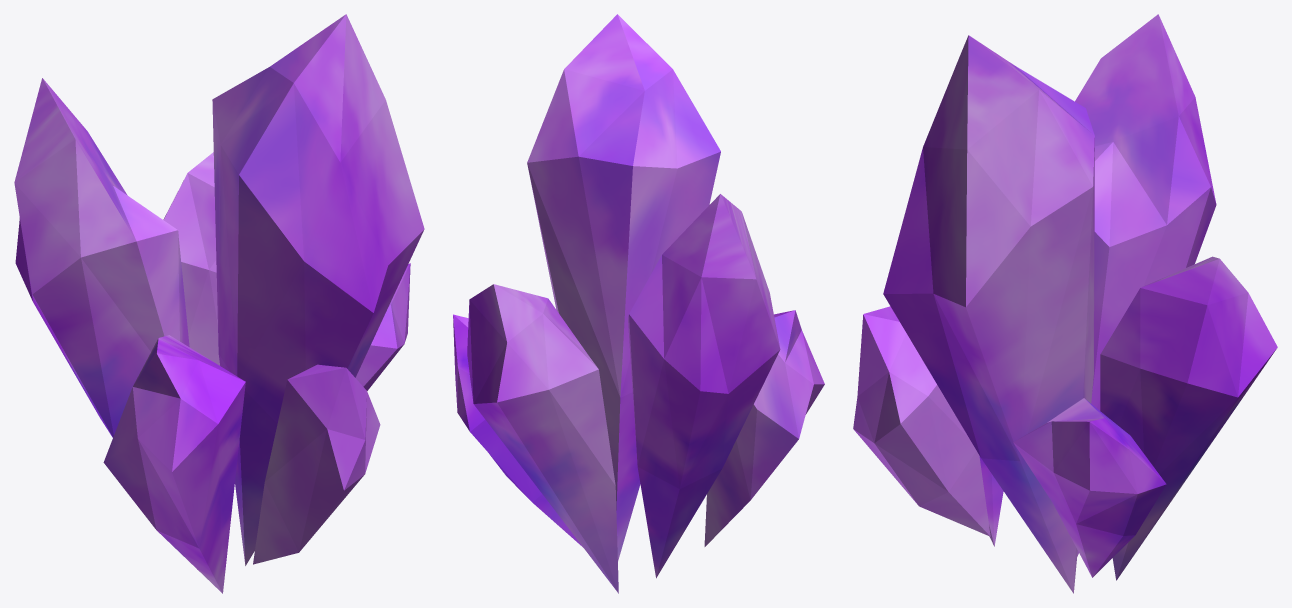
Rendered from rockface_natural_crystallarge01.FBX.
3 views of the same model, side by side, from view 1: azimuth 30°, elevation 25°; view 2: azimuth 150°, elevation 25°; view 3: azimuth 270°, elevation 25° (orthographic). The views are drawn at different scales.
Parts seen in each view (by area): view 1: rockface_natural_crystallarge01; view 2: rockface_natural_crystallarge01; view 3: rockface_natural_crystallarge01.
Boxes of the visible parts, <box> form: rockface_natural_crystallarge01: <box>14,14,424,593</box>; rockface_natural_crystallarge01: <box>453,14,824,593</box>; rockface_natural_crystallarge01: <box>853,14,1277,593</box>.
Size of the model in its own units: 1.26 by 1.88 by 1.24.
